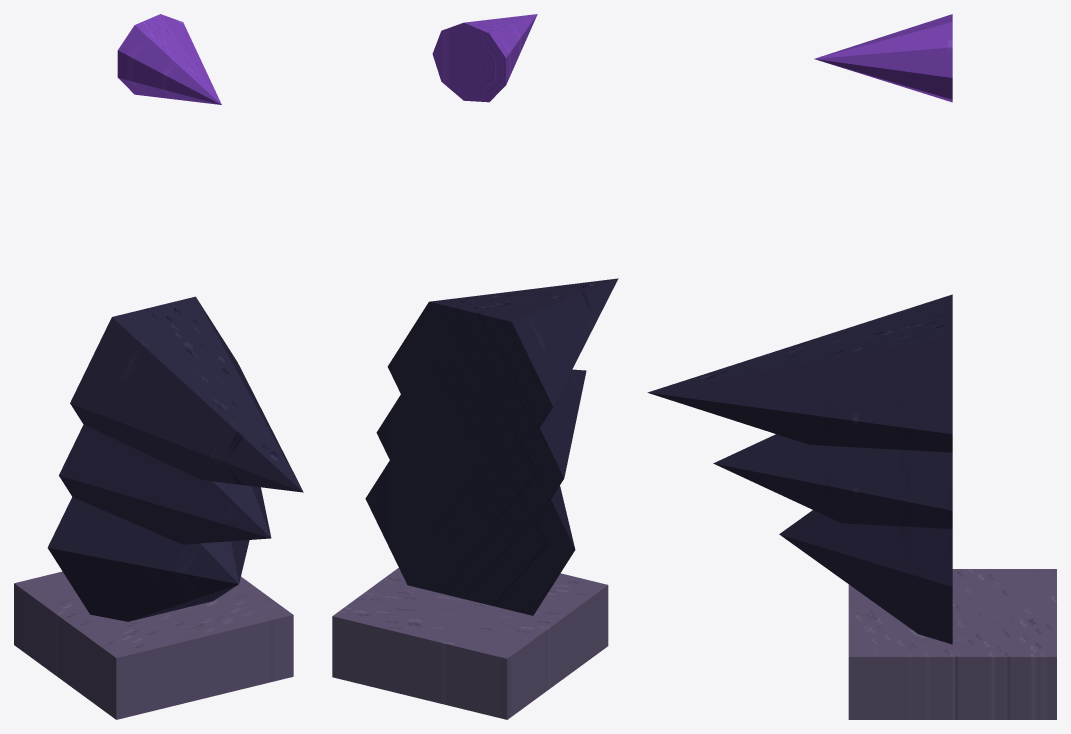
The model's file is spirit_obelisk_lod1.glb.
3 views of the same model, side by side, from view 1: azimuth 30°, elevation 25°; view 2: azimuth 150°, elevation 25°; view 3: azimuth 270°, elevation 25° (orthographic). The views are drawn at different scales.
Parts seen in each view (by area): view 1: ash_0, obsidian_3, obsidian_1, obsidian_2, rift_4; view 2: ash_0, obsidian_2, obsidian_3, obsidian_1, rift_4; view 3: obsidian_3, ash_0, obsidian_2, obsidian_1, rift_4.
Part boxes in pixels (left/top/right/bottom): ash_0: left=14, top=571, right=293, bottom=719; obsidian_3: left=70, top=296, right=303, bottom=492; obsidian_1: left=47, top=497, right=249, bottom=621; obsidian_2: left=59, top=424, right=271, bottom=544; rift_4: left=117, top=14, right=221, bottom=104; ash_0: left=332, top=568, right=608, bottom=719; obsidian_2: left=376, top=359, right=586, bottom=550; obsidian_3: left=387, top=278, right=618, bottom=454; obsidian_1: left=365, top=431, right=575, bottom=615; rift_4: left=432, top=14, right=537, bottom=102; obsidian_3: left=647, top=294, right=952, bottom=452; ash_0: left=848, top=569, right=1056, bottom=719; obsidian_2: left=713, top=434, right=952, bottom=528; obsidian_1: left=779, top=510, right=952, bottom=644; rift_4: left=814, top=14, right=952, bottom=102.
Bounding box in the file's own units: 3.6 × 10.44 × 5.9.
3 materials, 3 textured.
